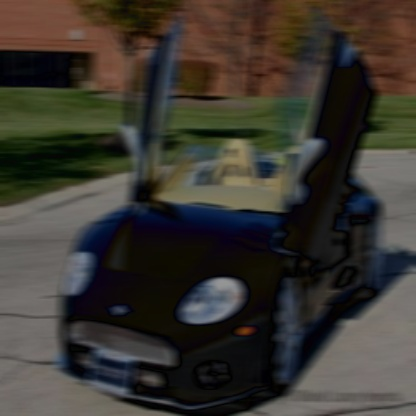Vehicle: (52, 8, 385, 415)
